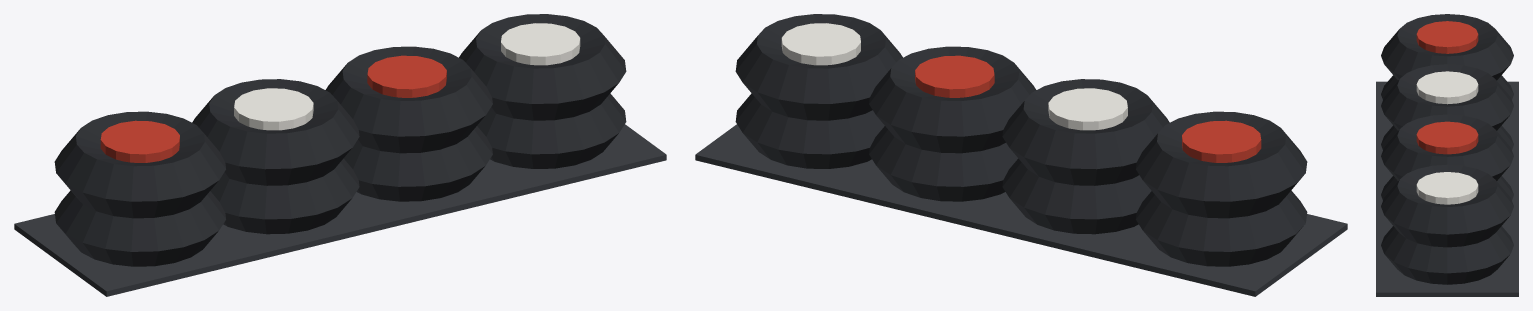
File: tire-barrier-lod0.glb
3 views of the same model, side by side, from view 1: azimuth 30°, elevation 25°; view 2: azimuth 150°, elevation 25°; view 3: azimuth 270°, elevation 25° (orthographic). The views are drawn at different scales.
Visible parts, largest first — view 1: tire-barrier; view 2: tire-barrier; view 3: tire-barrier.
Part boxes in pixels (x1,y1,x2,y2): tire-barrier: (14,14,666,296); tire-barrier: (695,14,1347,296); tire-barrier: (1376,14,1518,296).
Size of the model in its own units: 2.1 by 0.38 by 0.6.
